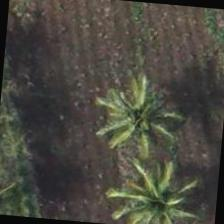Kelapa_Sawit: (95, 67, 193, 165), (108, 153, 206, 223)
